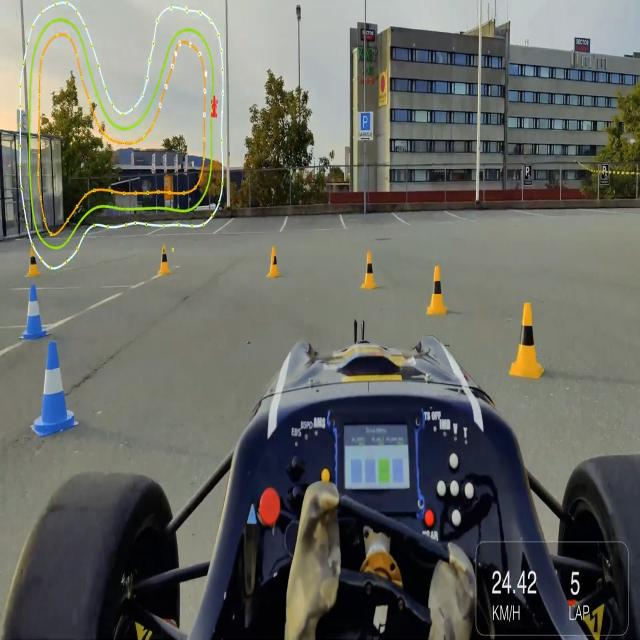blue_cone: (35, 341, 74, 432), (22, 284, 47, 341)
yellow_cone: (509, 302, 543, 378), (427, 266, 447, 315), (363, 251, 378, 290), (27, 246, 41, 277), (268, 245, 280, 278), (160, 244, 172, 276)
